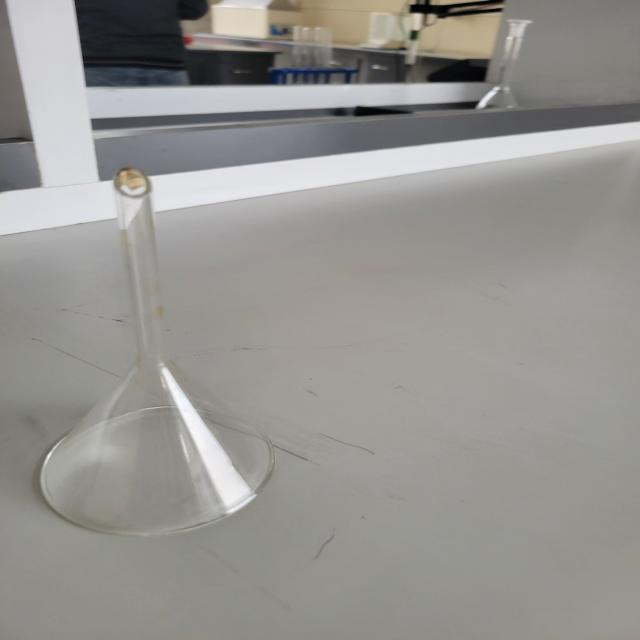Funnel: (13, 137, 313, 574)
